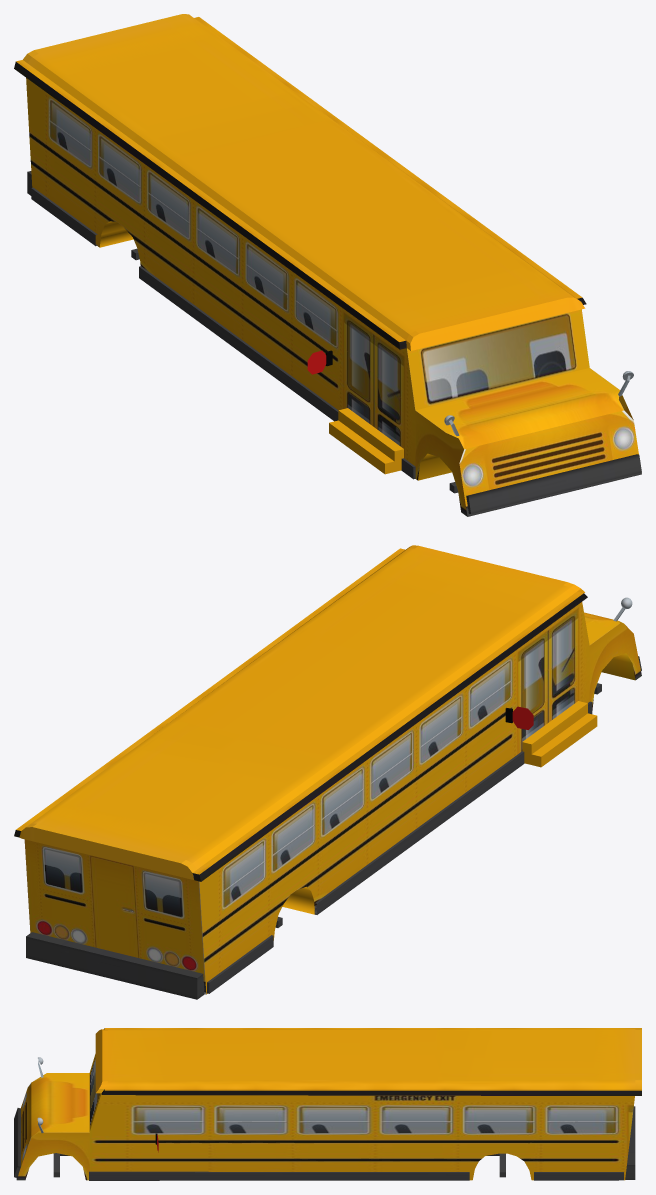
Rendered from autobus.obj.
3 renders of one model, top to bottom at view 1: azimuth 30°, elevation 25°; view 2: azimuth 150°, elevation 25°; view 3: azimuth 270°, elevation 25°, orthographic. The views are drawn at different scales.
Visible parts, largest first — view 1: polySurface44; view 2: polySurface44; view 3: polySurface44.
Boxes of the visible parts, left/top/right/bottom form: polySurface44: left=14, top=14, right=641, bottom=516; polySurface44: left=14, top=545, right=641, bottom=999; polySurface44: left=14, top=1028, right=641, bottom=1180.
Size of the model in its own units: 12.97 by 7.82 by 44.77.
